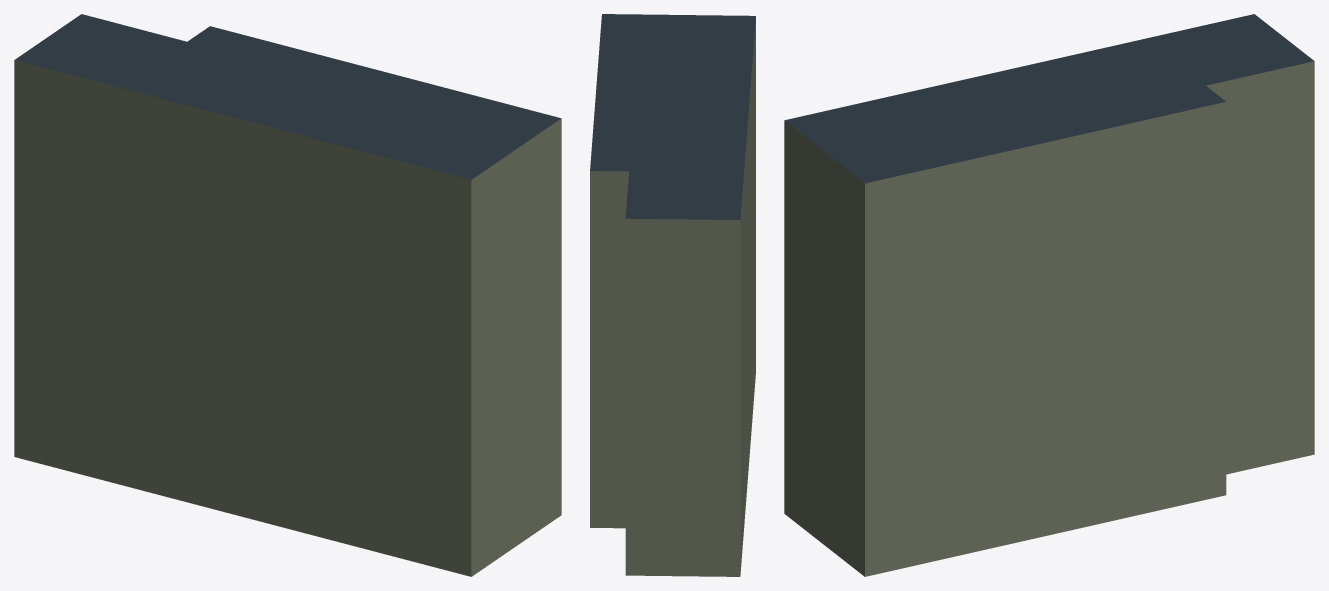
File: nyc-1022651-0.glb
The picture shows the model from 3 angles, left to right: view 1: azimuth 30°, elevation 25°; view 2: azimuth 150°, elevation 25°; view 3: azimuth 270°, elevation 25°; orthographic projection. The views are drawn at different scales.
Parts seen in each view (by area): view 1: nyc-1022651-0; view 2: nyc-1022651-0; view 3: nyc-1022651-0.
Part boxes in pixels (x1,y1,x2,y2): nyc-1022651-0: (14,14,561,576); nyc-1022651-0: (590,14,755,576); nyc-1022651-0: (784,14,1314,576).
Bounding box in the file's own units: 21.4 × 23.16 × 28.29.
